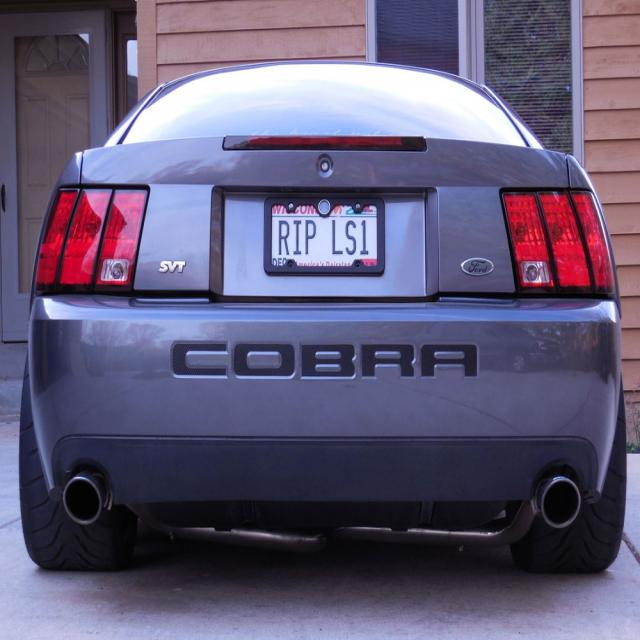Number-Plate: (270, 205, 376, 266)
